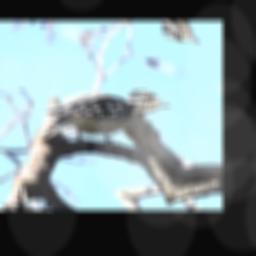Woodpecker: (33, 61, 175, 175)
